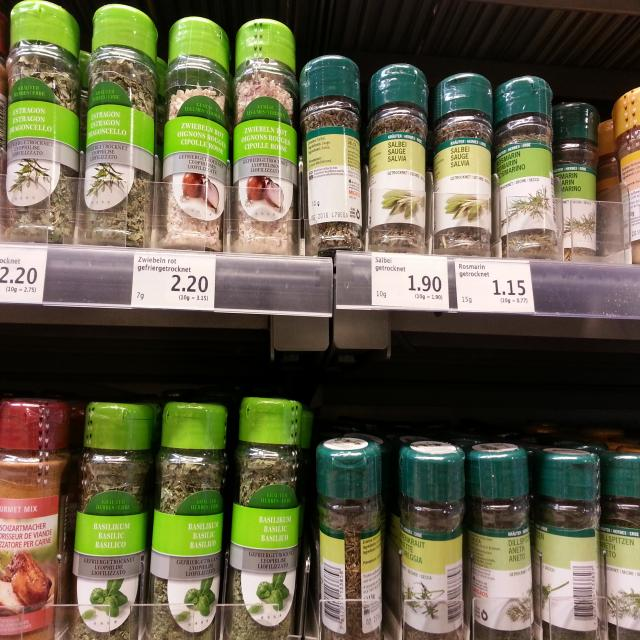Spices: (71, 400, 151, 640), (149, 397, 227, 640), (227, 394, 302, 640), (84, 2, 158, 248), (7, 0, 80, 244), (0, 397, 72, 640), (230, 17, 300, 258), (162, 17, 230, 250), (314, 436, 384, 640), (531, 443, 600, 640), (399, 438, 466, 640), (297, 55, 365, 252), (468, 440, 534, 640), (495, 75, 559, 262), (368, 63, 429, 254), (433, 72, 492, 259), (601, 445, 640, 640), (552, 101, 598, 263)
